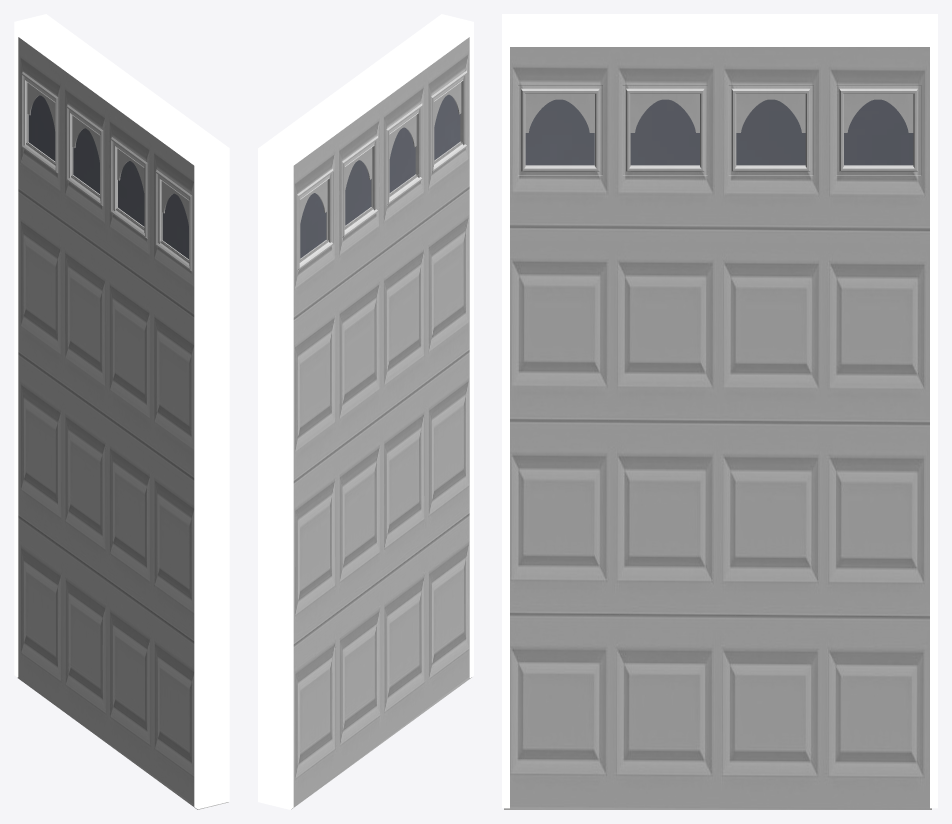
The model's file is overhead_door_door_cathedral.19b22440.gltf.
3 views of the same model, side by side, from view 1: azimuth 30°, elevation 25°; view 2: azimuth 150°, elevation 25°; view 3: azimuth 270°, elevation 25° (orthographic). The views are drawn at different scales.
Parts seen in each view (by area): view 1: door, trim, door_window, Glass; view 2: door, trim, door_window, Glass; view 3: door, trim, Glass, door_window.
Part boxes in pixels (x1,y1,x2,y2): door: [17, 37, 228, 809]; trim: [14, 14, 229, 809]; door_window: [21, 72, 192, 271]; Glass: [28, 95, 188, 259]; door: [291, 37, 471, 809]; trim: [258, 14, 473, 809]; door_window: [297, 70, 467, 270]; Glass: [300, 94, 460, 258]; door: [504, 47, 931, 809]; trim: [502, 14, 937, 808]; Glass: [525, 99, 913, 165]; door_window: [518, 85, 921, 175].
Bounding box in the file's own units: 0.3274 × 6.01 × 3.05.
4 materials, 3 textured.
